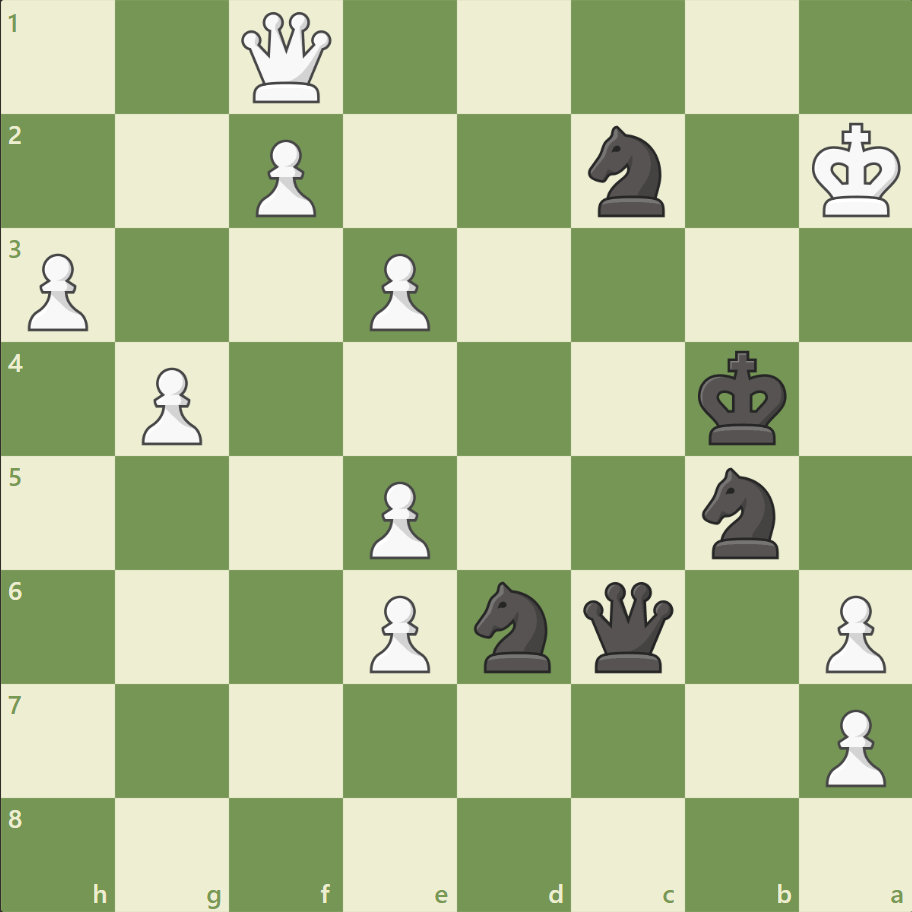K: (806, 117, 906, 225)
P: (133, 359, 208, 450), (20, 246, 95, 337), (247, 132, 322, 223), (815, 700, 889, 791), (815, 586, 889, 677), (361, 586, 435, 677), (361, 473, 435, 564), (361, 246, 435, 337)
Q: (237, 9, 336, 108)
k: (692, 344, 792, 452)
n: (692, 461, 789, 564), (465, 575, 562, 677), (579, 121, 676, 223)
q: (578, 576, 677, 676)
